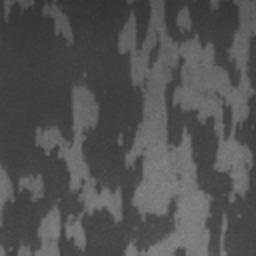Red iron sheet: (0, 0, 242, 256), (164, 32, 256, 256), (148, 30, 161, 69), (176, 249, 185, 256)
